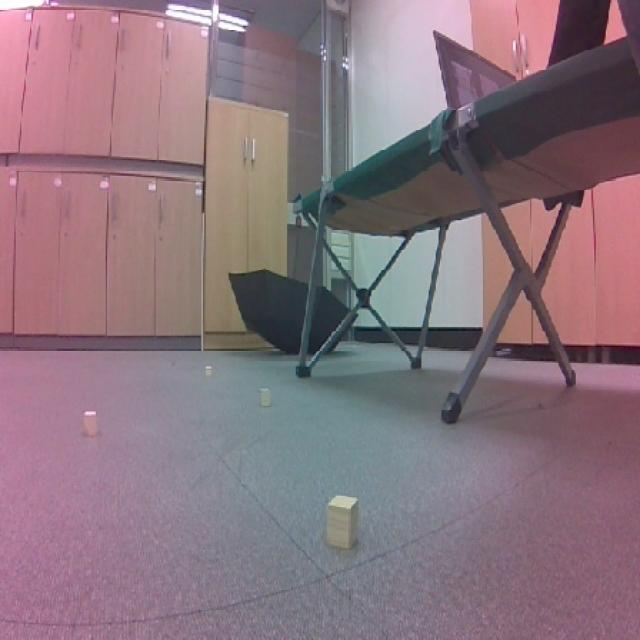obstacle: (316, 487, 378, 556)
